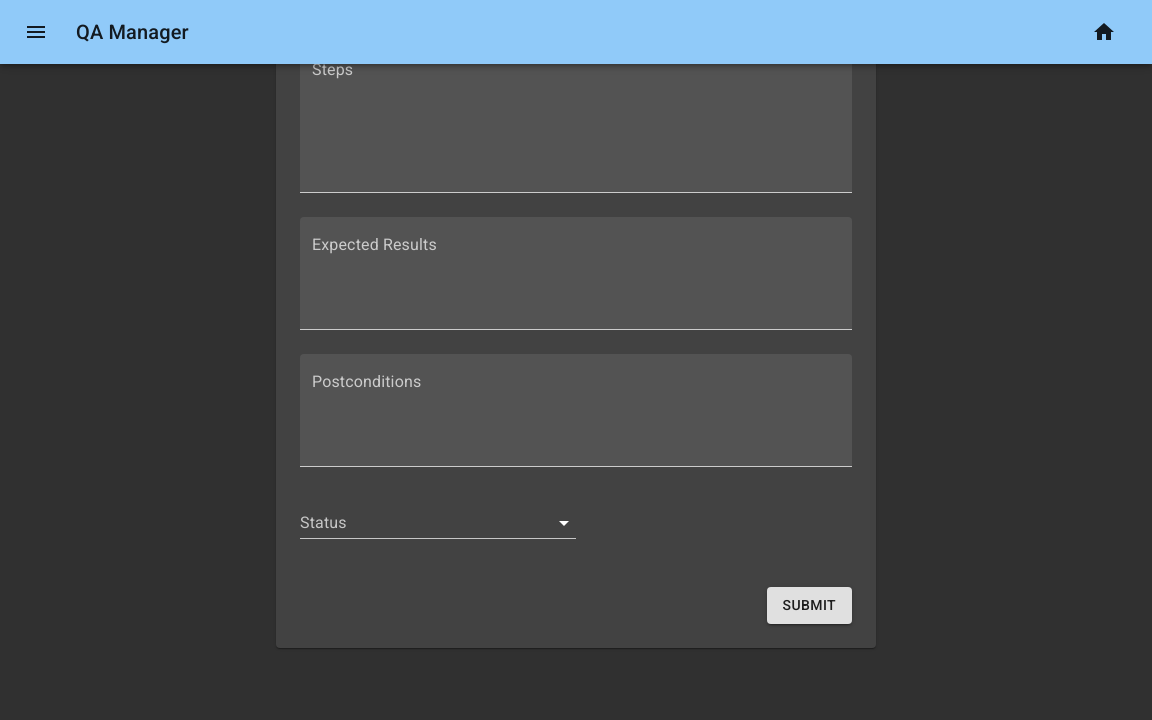
Test: New Test Case Form Test › Has a Status form field
The width and height of the screenshot is (1152, 720).
(page scrolled)
Click the button with id "new-test-case-status": [438, 523] box [300,507,576,539]
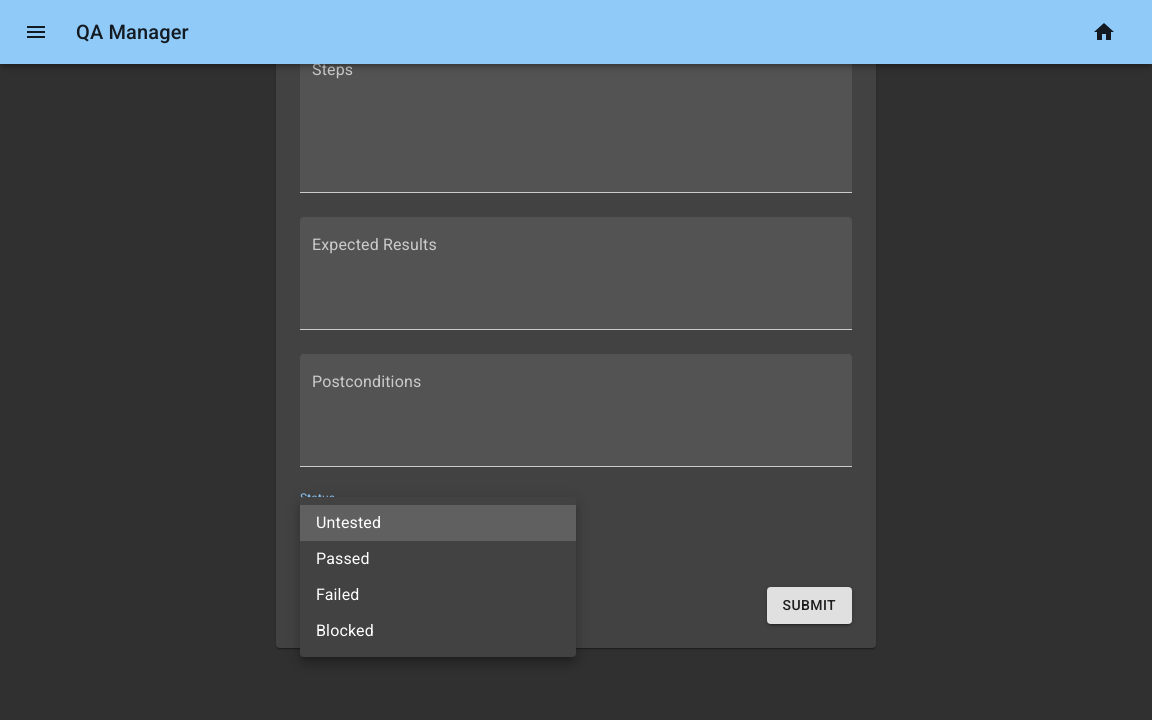
Result: the option "Untested" is shown at [300,505,576,541]
Result: the option "Passed" is shown at [316,549,370,568]
Result: the option "Failed" is shown at [316,585,360,604]
